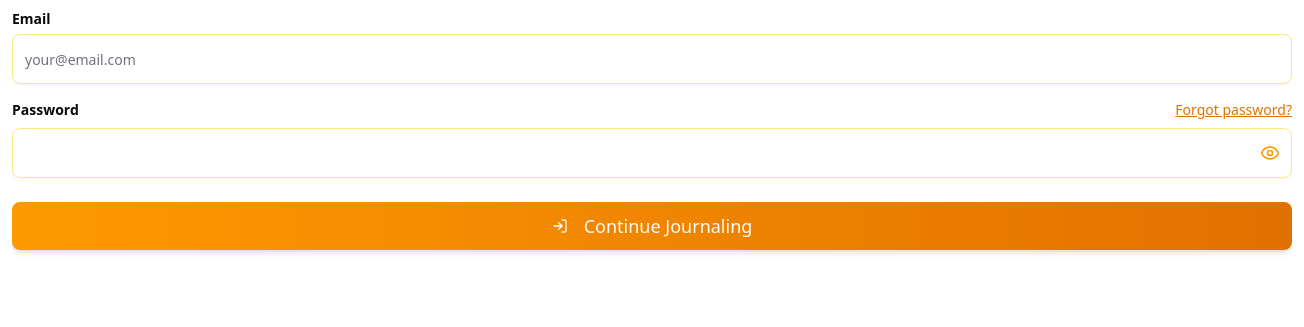
Test case: LoginForm › shows validation errors
// Submit empty form
Click the button "Continue Journaling".
click(652, 226)  # box [12,202,1292,250]
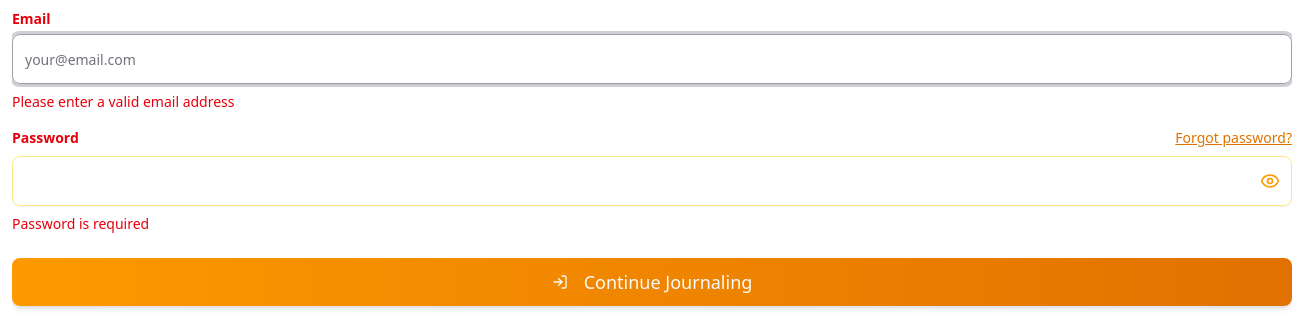
Check: the text "Please enter a valid email address" is shown, box [12,92,234,111]
Check: the text "Password is required" is shown, box [12,214,149,233]
